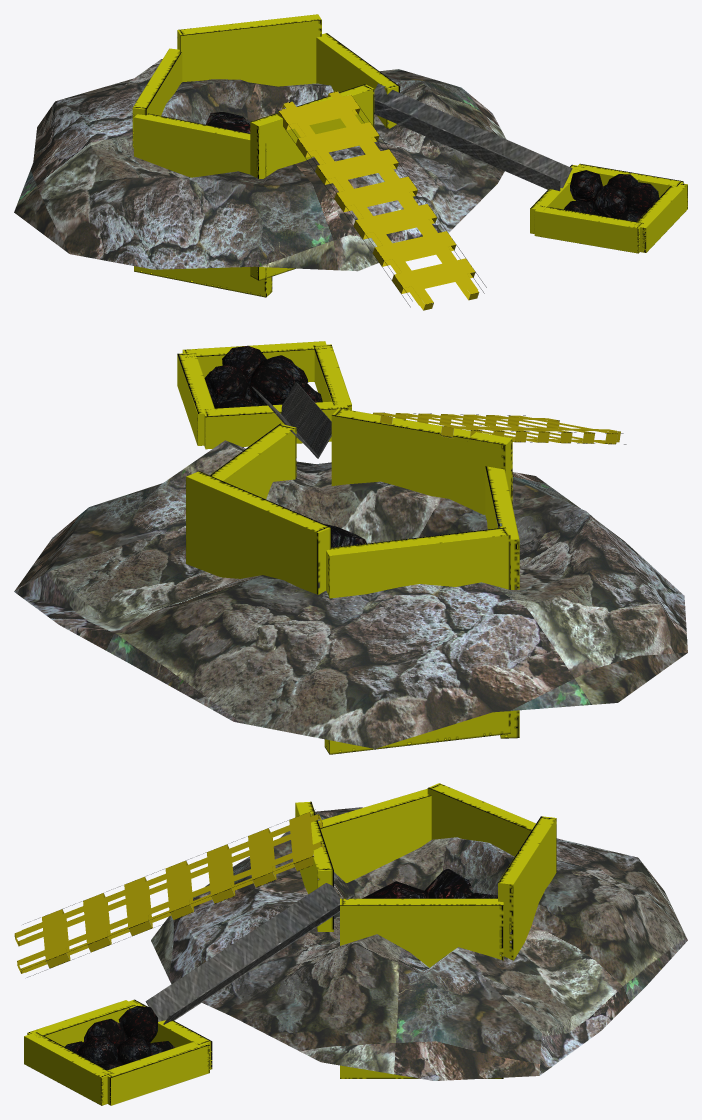
The model's file is coal_mine.fbx.
The picture shows the model from 3 angles, top to bottom: view 1: azimuth 30°, elevation 25°; view 2: azimuth 150°, elevation 25°; view 3: azimuth 270°, elevation 25°; orthographic projection. The views are drawn at different scales.
Visible parts, largest first — view 1: coal_mine_mesh; view 2: coal_mine_mesh; view 3: coal_mine_mesh.
Part boxes in pixels (bbox=[...]): coal_mine_mesh: bbox=[14, 14, 687, 310]; coal_mine_mesh: bbox=[14, 341, 687, 754]; coal_mine_mesh: bbox=[14, 783, 687, 1105].
Bounding box in the file's own units: 20.44 × 6.96 × 21.01.
